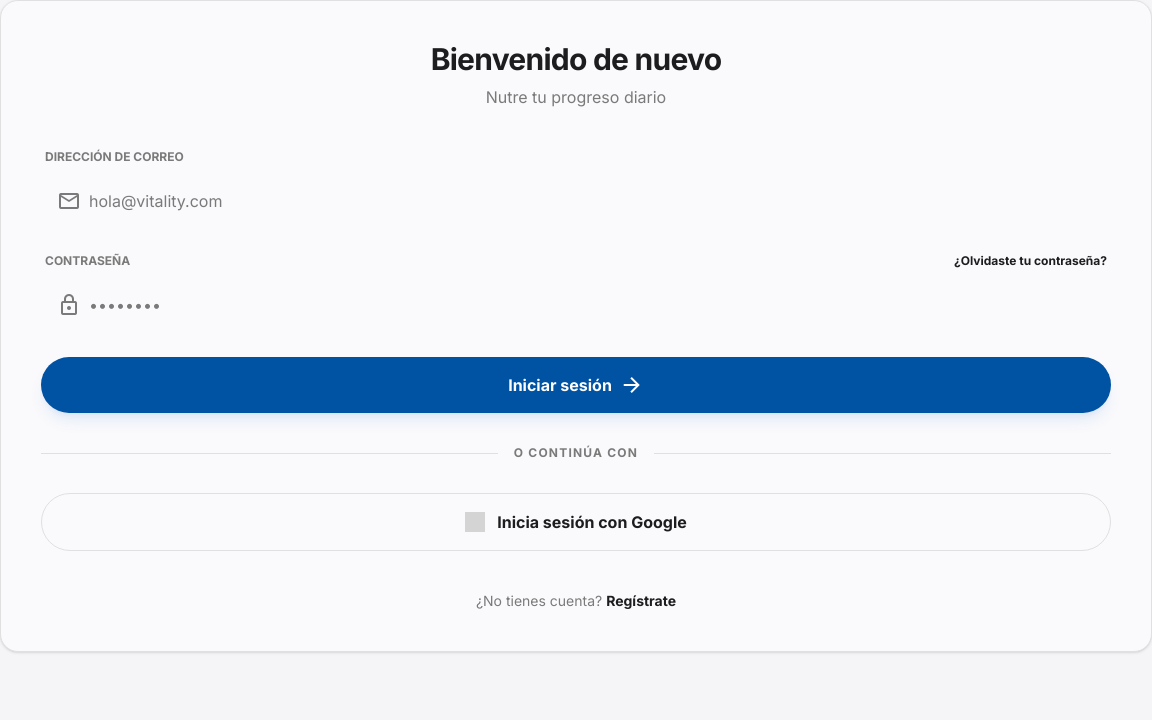
LoginForm › shows email validation error for invalid email
Step 1. Type "invalid-email" into the field with placeholder "hola@vitality.com" → (576, 201), box [41, 173, 1111, 229]
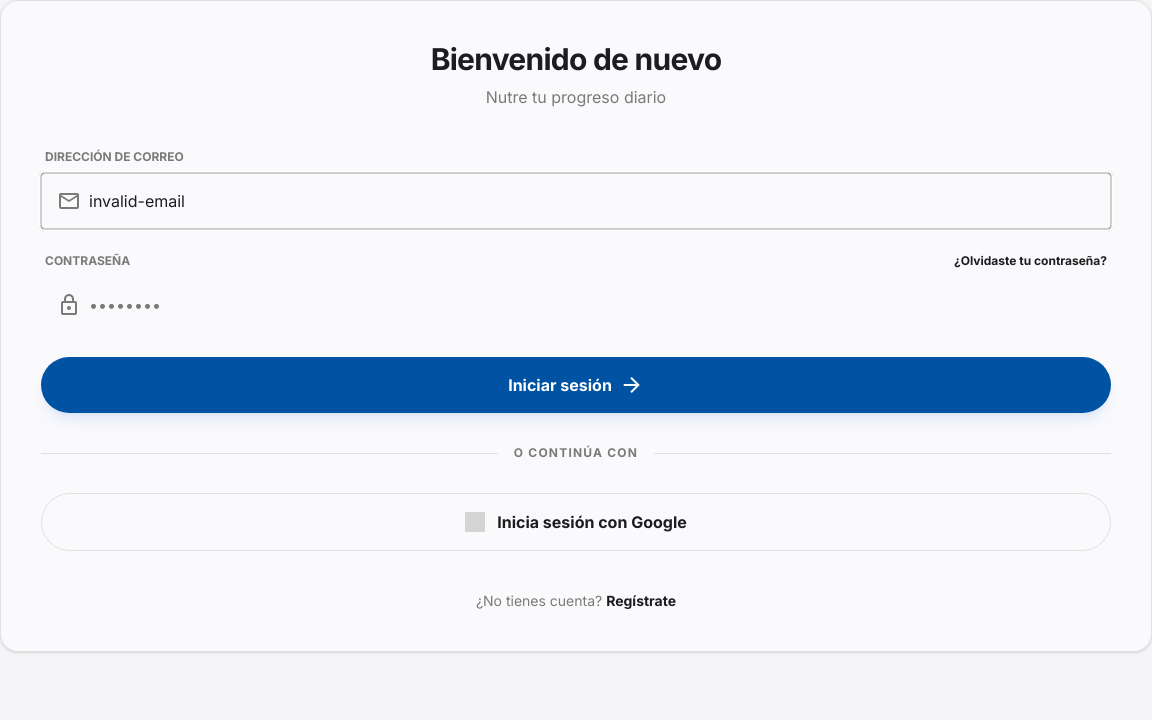
Step 2. Type "password123" into the password field with placeholder "••••••••" → (576, 305), box [41, 277, 1111, 333]
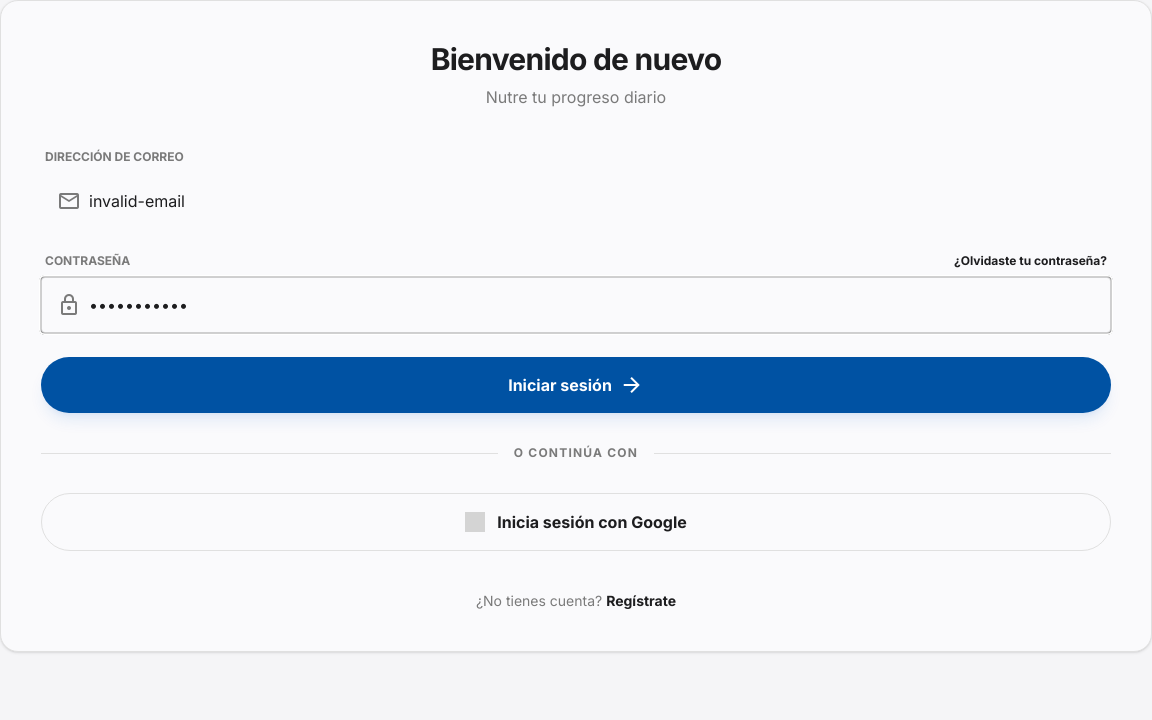
Step 3. Click the button "Iniciar sesión" → (576, 385), box [41, 357, 1111, 413]
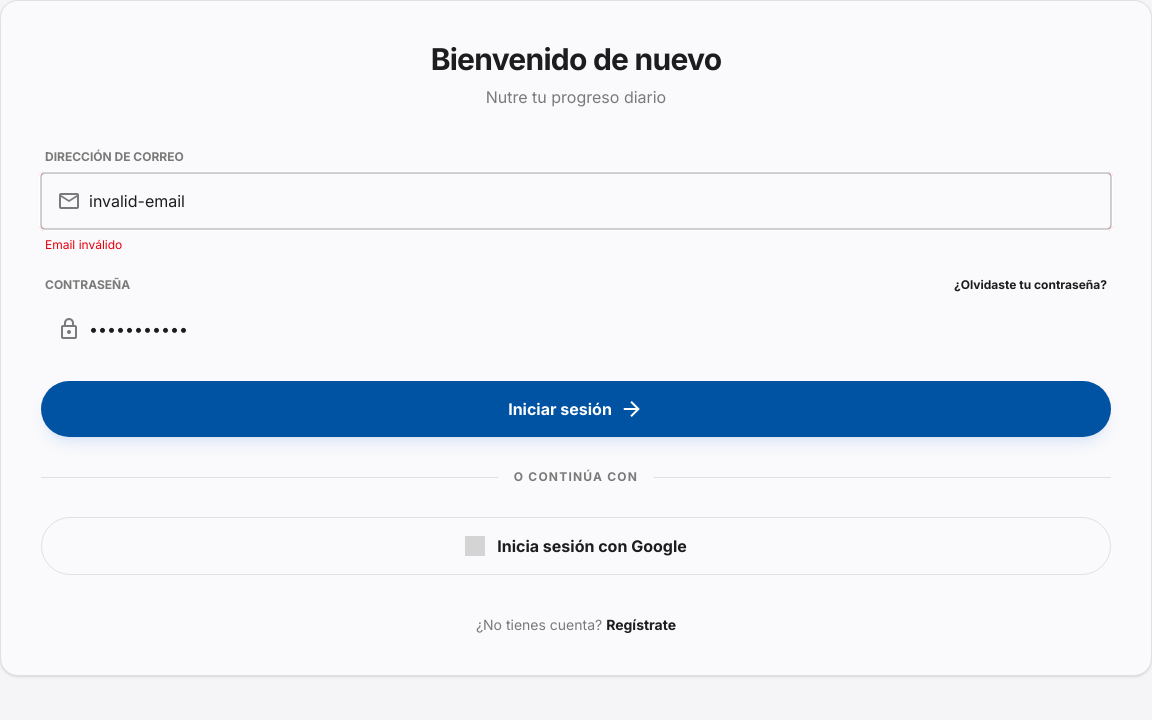
Expected: the text "Email inválido" is shown, [45, 237, 122, 252]
